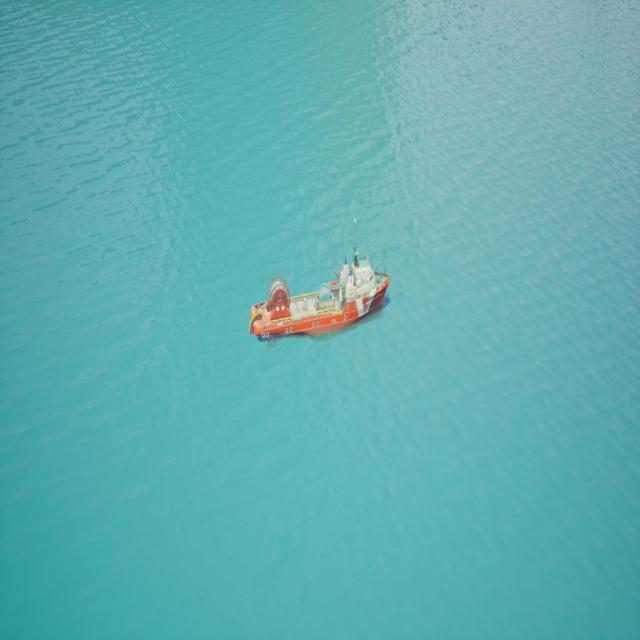tug boat: (249, 257, 396, 342)
